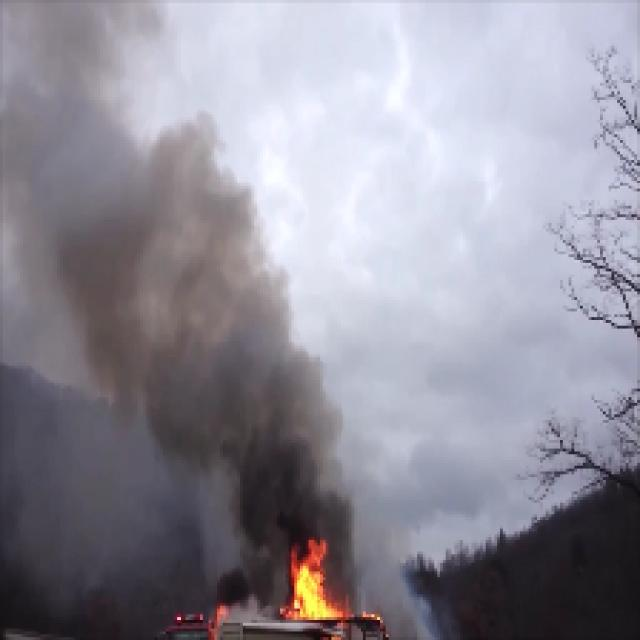fire: (278, 549, 340, 620)
smoke: (121, 184, 219, 428), (223, 361, 328, 531)
